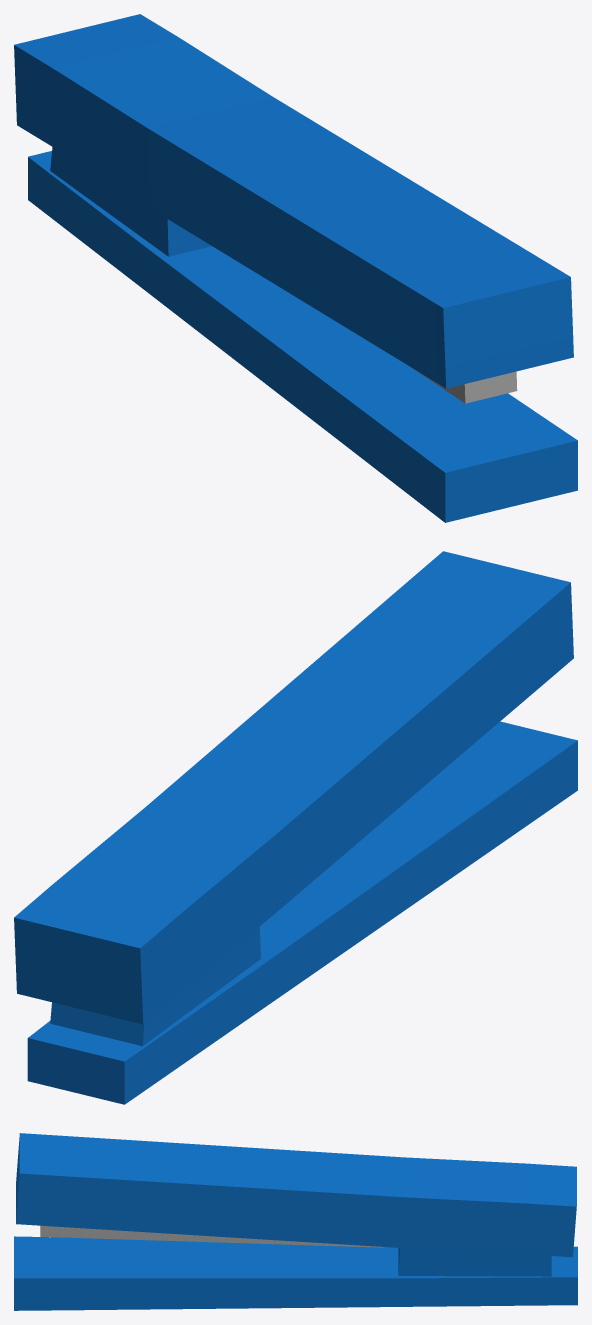
File: staplerModel.fbx
3 views of the same model, one above another, from view 1: azimuth 30°, elevation 25°; view 2: azimuth 150°, elevation 25°; view 3: azimuth 270°, elevation 25° (orthographic). The views are drawn at different scales.
Visible parts, largest first — view 1: Stapler; view 2: Stapler; view 3: Stapler.
Boxes of the visible parts, <box> form: Stapler: <box>14,14,577,522</box>; Stapler: <box>14,551,577,1104</box>; Stapler: <box>14,1133,577,1310</box>.
Bounding box in the file's own units: 28.37 × 43.06 × 161.
